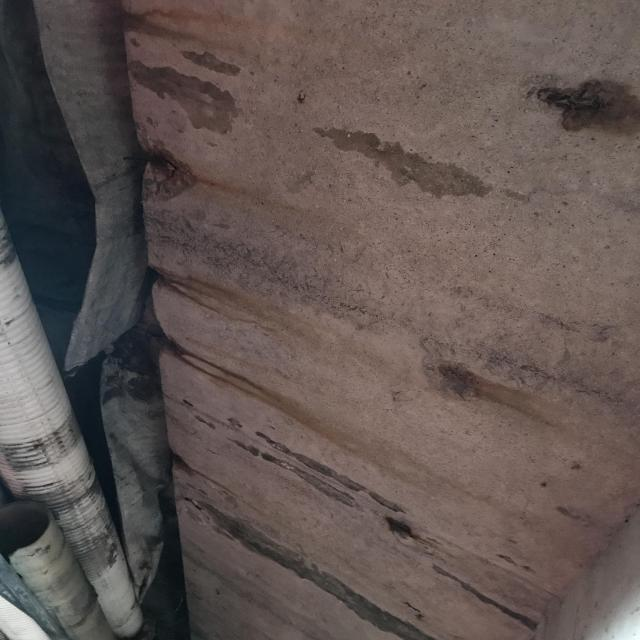concrete spalling: (538, 75, 621, 132), (140, 132, 198, 204)
